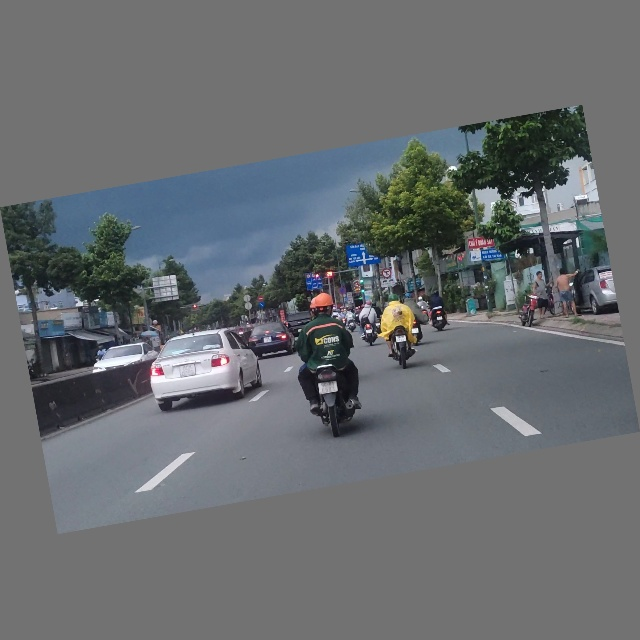P.137: (381, 269, 392, 280)
R.415a: (306, 276, 324, 292)
